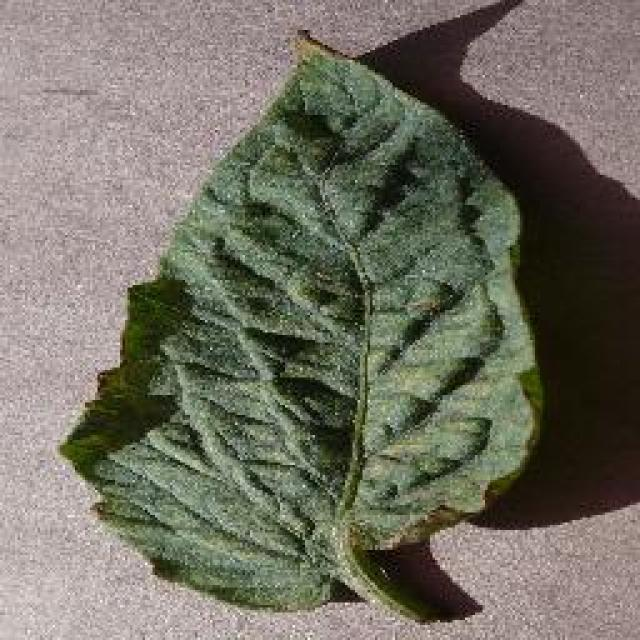Tom_Spider_mites Two-spotted_spider_mite: (213, 153, 482, 497)
